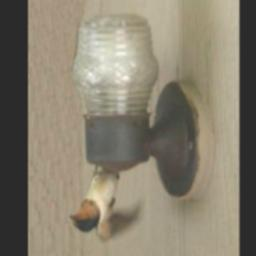Swallow: (69, 166, 144, 245)
